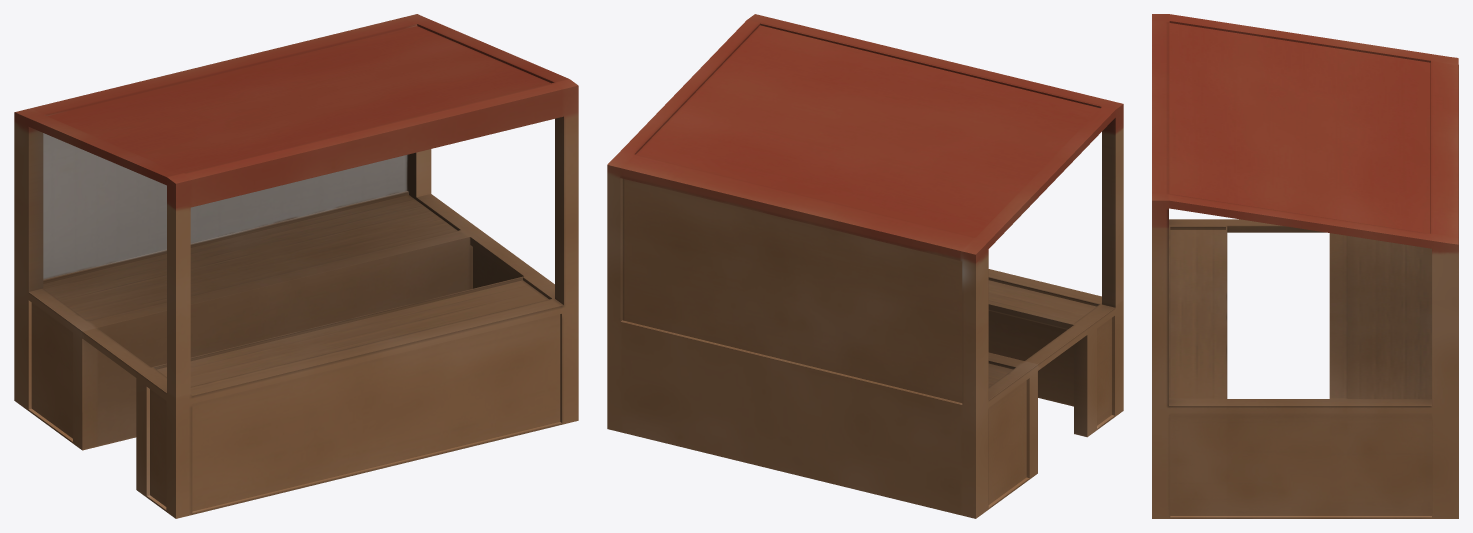
File: market_stall.glb
3 views of the same model, side by side, from view 1: azimuth 30°, elevation 25°; view 2: azimuth 150°, elevation 25°; view 3: azimuth 270°, elevation 25° (orthographic). The views are drawn at different scales.
Visible parts, largest first — view 1: Market_Stall; view 2: Market_Stall; view 3: Market_Stall.
Part boxes in pixels (<box>): Market_Stall: <box>14,14,578,518</box>; Market_Stall: <box>607,14,1123,518</box>; Market_Stall: <box>1152,14,1458,518</box>.
Size of the model in its own units: 0.26 by 0.2068 by 0.1806.
1 material, 1 textured.
